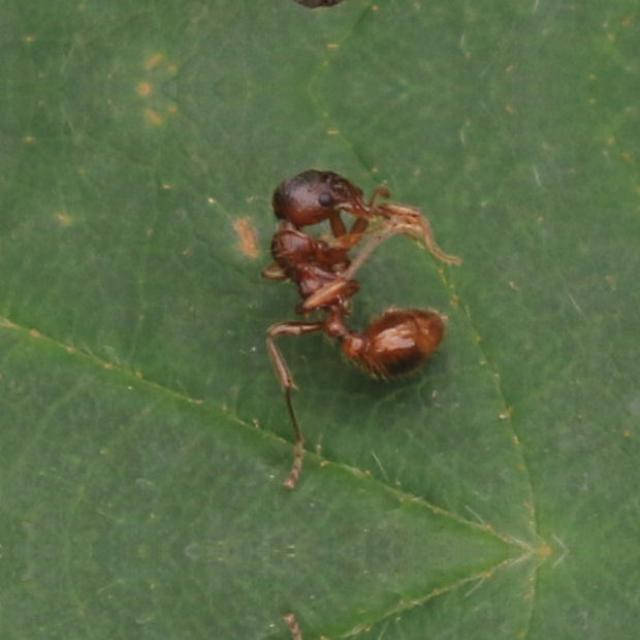Myrmica: (223, 146, 487, 410)
